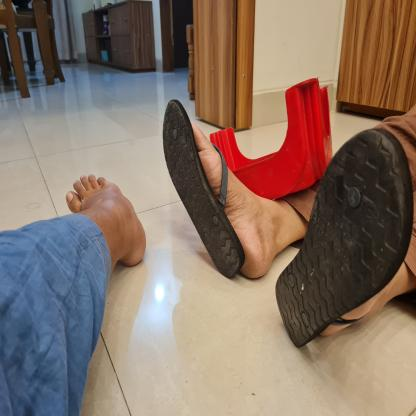leg: (158, 94, 308, 285), (54, 166, 151, 268)
